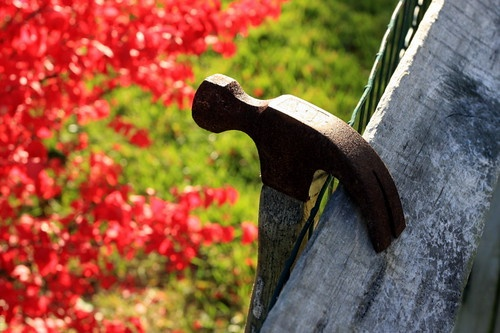hammer: (191, 74, 407, 333)
